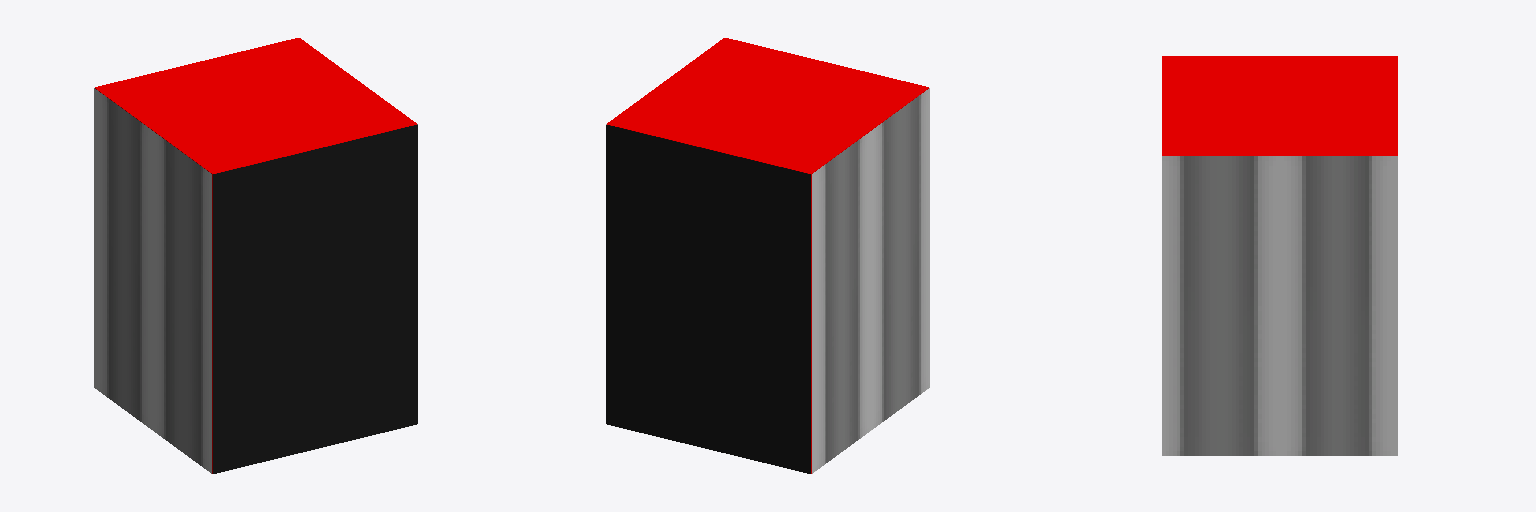
The picture shows the model from 3 angles: view 1: azimuth 30°, elevation 25°; view 2: azimuth 150°, elevation 25°; view 3: azimuth 270°, elevation 25°; orthographic projection.
Visible parts, largest first — view 1: Regioncloaker4, Regioncloaker2, Regioncloaker7, Regioncloaker1; view 2: Regioncloaker5, Regioncloaker2, Regioncloaker7, Regioncloaker1; view 3: Regioncloaker3, Regioncloaker7.
Boxes of the visible parts, x1,y1,x2,y2 form: Regioncloaker4: [213, 125, 417, 473]; Regioncloaker2: [94, 88, 211, 473]; Regioncloaker7: [95, 38, 416, 173]; Regioncloaker1: [95, 88, 416, 473]; Regioncloaker5: [606, 125, 810, 473]; Regioncloaker2: [812, 88, 929, 473]; Regioncloaker7: [607, 38, 928, 173]; Regioncloaker1: [607, 88, 928, 473]; Regioncloaker3: [1162, 156, 1397, 455]; Regioncloaker7: [1162, 56, 1397, 155].
Bounding box in the file's own units: 10.04 × 14.04 × 10.04.
5 materials, 1 textured.